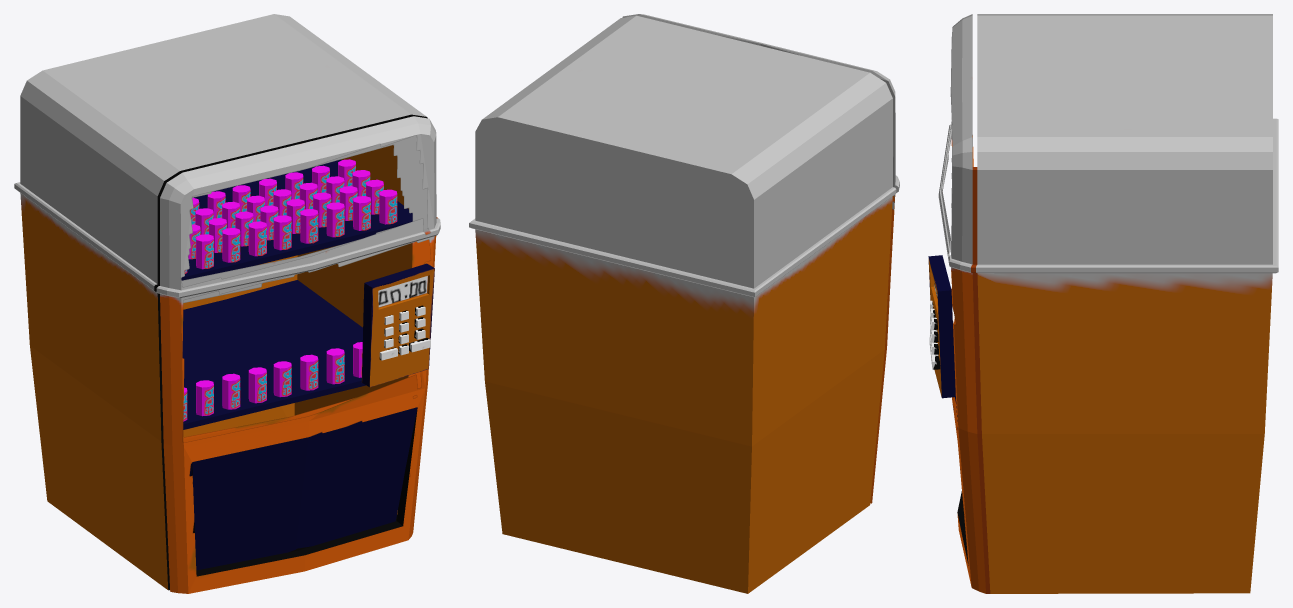
File: maquina.fbx
3 views of the same model, side by side, from view 1: azimuth 30°, elevation 25°; view 2: azimuth 150°, elevation 25°; view 3: azimuth 270°, elevation 25° (orthographic). The views are drawn at different scales.
Parts seen in each view (by area): view 1: maquinaderefrigerantre; view 2: maquinaderefrigerantre; view 3: maquinaderefrigerantre.
Part boxes in pixels (x1,y1,x2,y2): maquinaderefrigerantre: [14, 14, 440, 593]; maquinaderefrigerantre: [469, 14, 899, 593]; maquinaderefrigerantre: [928, 14, 1278, 593].
Bounding box in the file's own units: 140 × 200 × 140.
